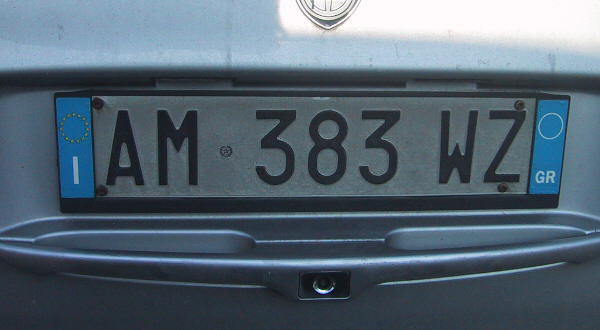license_plate: (54, 94, 571, 199)
